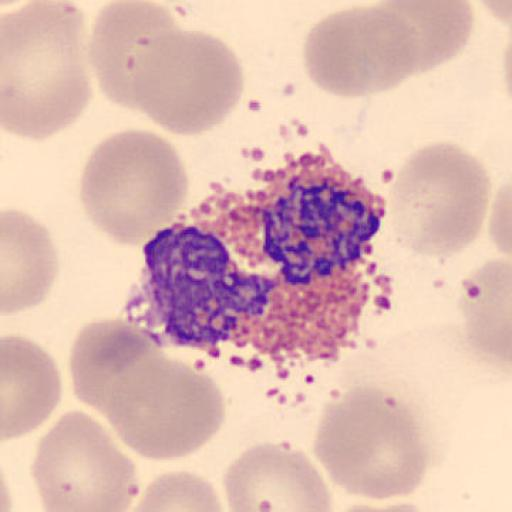RBC: (102, 349, 227, 462), (312, 383, 430, 501), (78, 127, 191, 247), (384, 140, 492, 260), (0, 0, 91, 142), (129, 28, 246, 138), (302, 4, 422, 100), (30, 409, 141, 512), (88, 1, 184, 112), (68, 316, 154, 416), (221, 438, 334, 512), (376, 1, 476, 74), (2, 332, 62, 442), (1, 207, 60, 316), (461, 252, 512, 366), (124, 468, 226, 512), (489, 177, 512, 279), (488, 181, 512, 259), (472, 0, 512, 27), (331, 502, 437, 512), (359, 500, 435, 512), (330, 503, 407, 512)
WBC: (131, 164, 388, 374)
